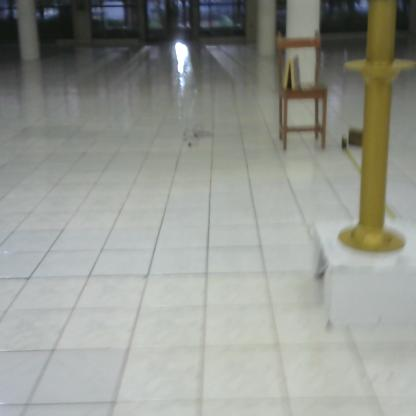pole: (336, 5, 416, 263)
